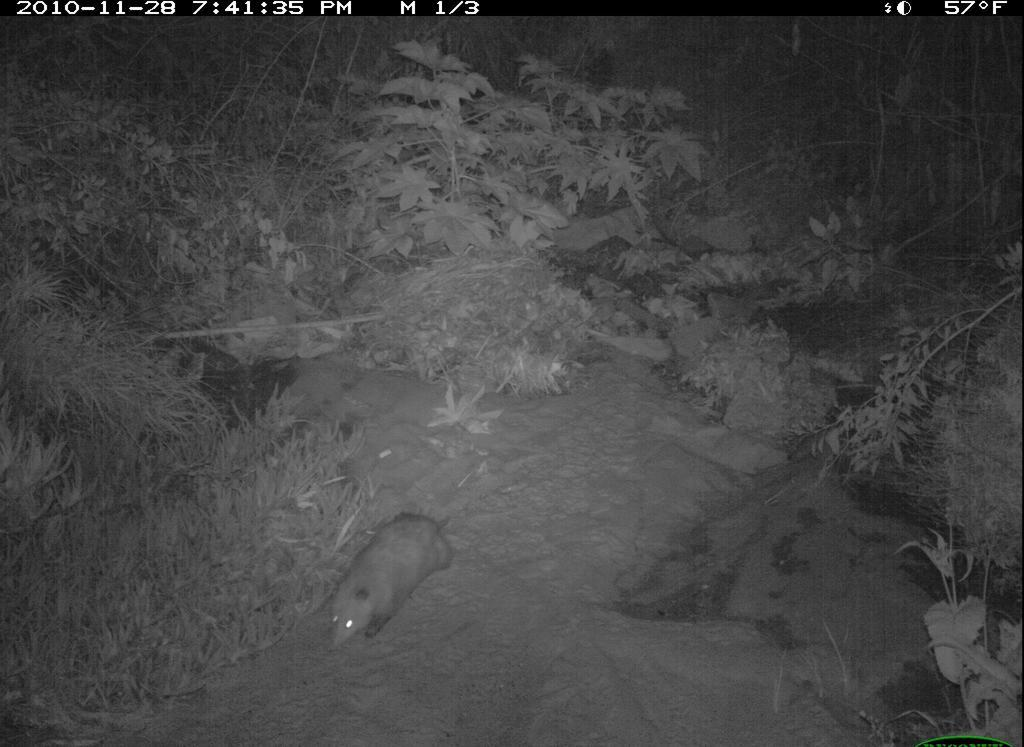opossum: (314, 492, 459, 661)
